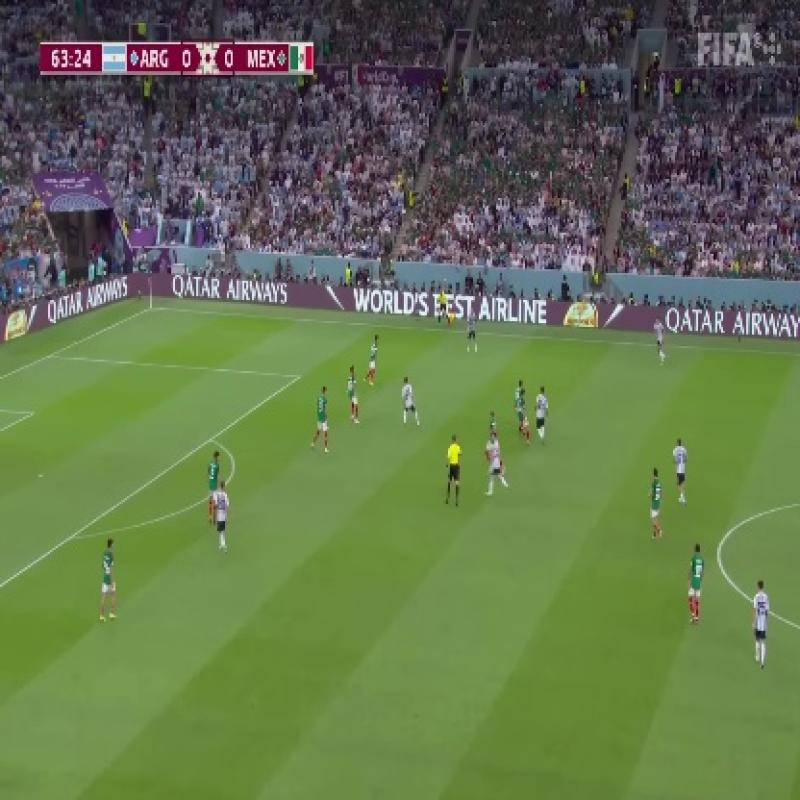1: (142, 298, 160, 314)
10: (200, 425, 219, 448)
11: (62, 523, 80, 546)
2: (40, 346, 58, 364)
7: (21, 402, 38, 423)
9: (288, 366, 306, 386)
c: (706, 531, 734, 566)
